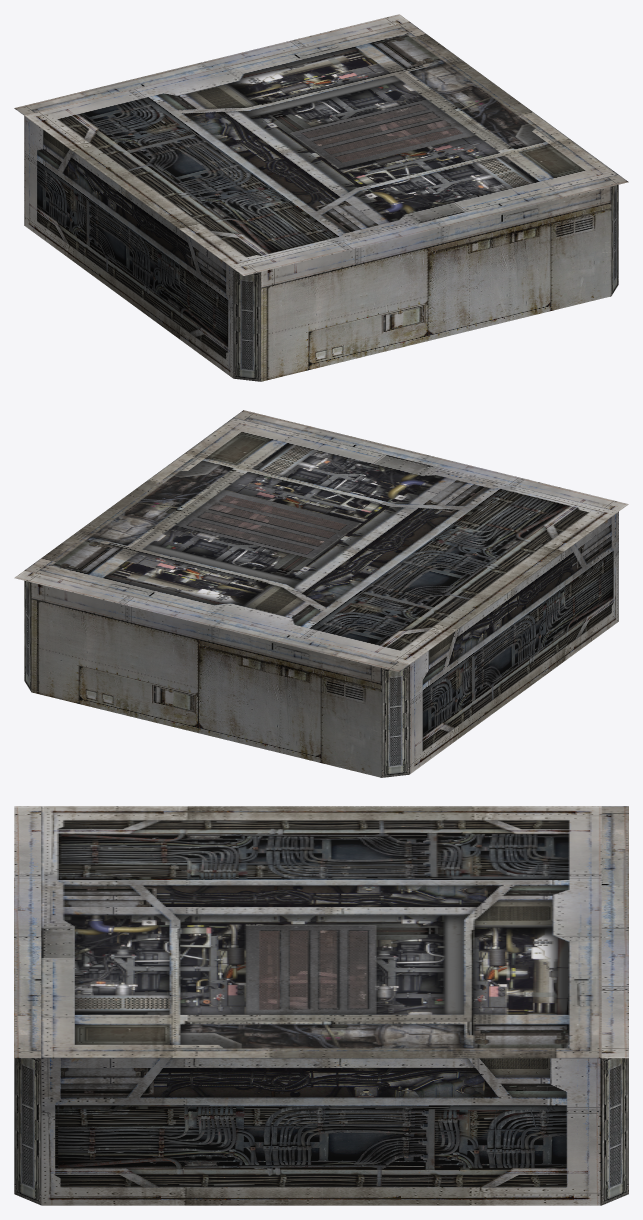
The model's file is ARC_CeilingHigh_Single_Enclosed.FBX.
3 views of the same model, one above another, from view 1: azimuth 30°, elevation 25°; view 2: azimuth 150°, elevation 25°; view 3: azimuth 270°, elevation 25° (orthographic). The views are drawn at different scales.
Parts seen in each view (by area): view 1: ARC_CeilingHigh_Single_Enclosed; view 2: ARC_CeilingHigh_Single_Enclosed; view 3: ARC_CeilingHigh_Single_Enclosed.
Boxes of the visible parts, bbox=[...] form: ARC_CeilingHigh_Single_Enclosed: bbox=[14, 14, 628, 381]; ARC_CeilingHigh_Single_Enclosed: bbox=[14, 410, 628, 777]; ARC_CeilingHigh_Single_Enclosed: bbox=[14, 806, 628, 1205].
Bounding box in the file's own units: 550 × 150 × 568.
1 material, 1 textured.
